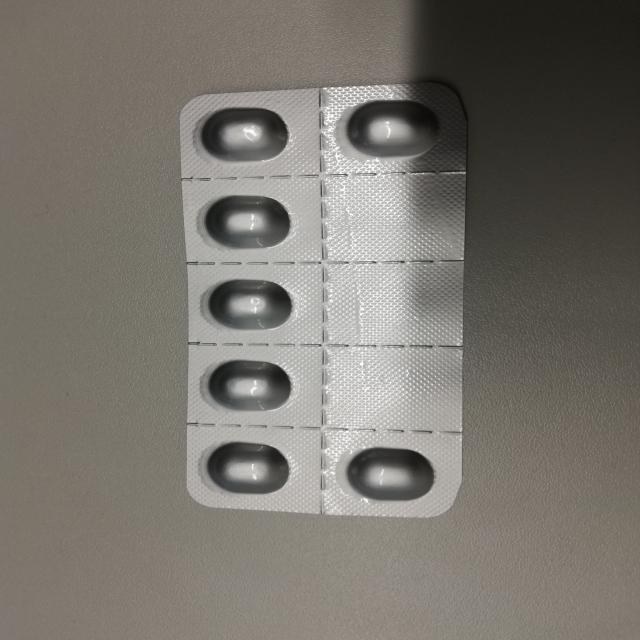Pill: (331, 96, 452, 161), (191, 190, 307, 252), (339, 443, 442, 508), (187, 106, 300, 165), (196, 352, 296, 417), (200, 275, 300, 333), (200, 439, 296, 499)
